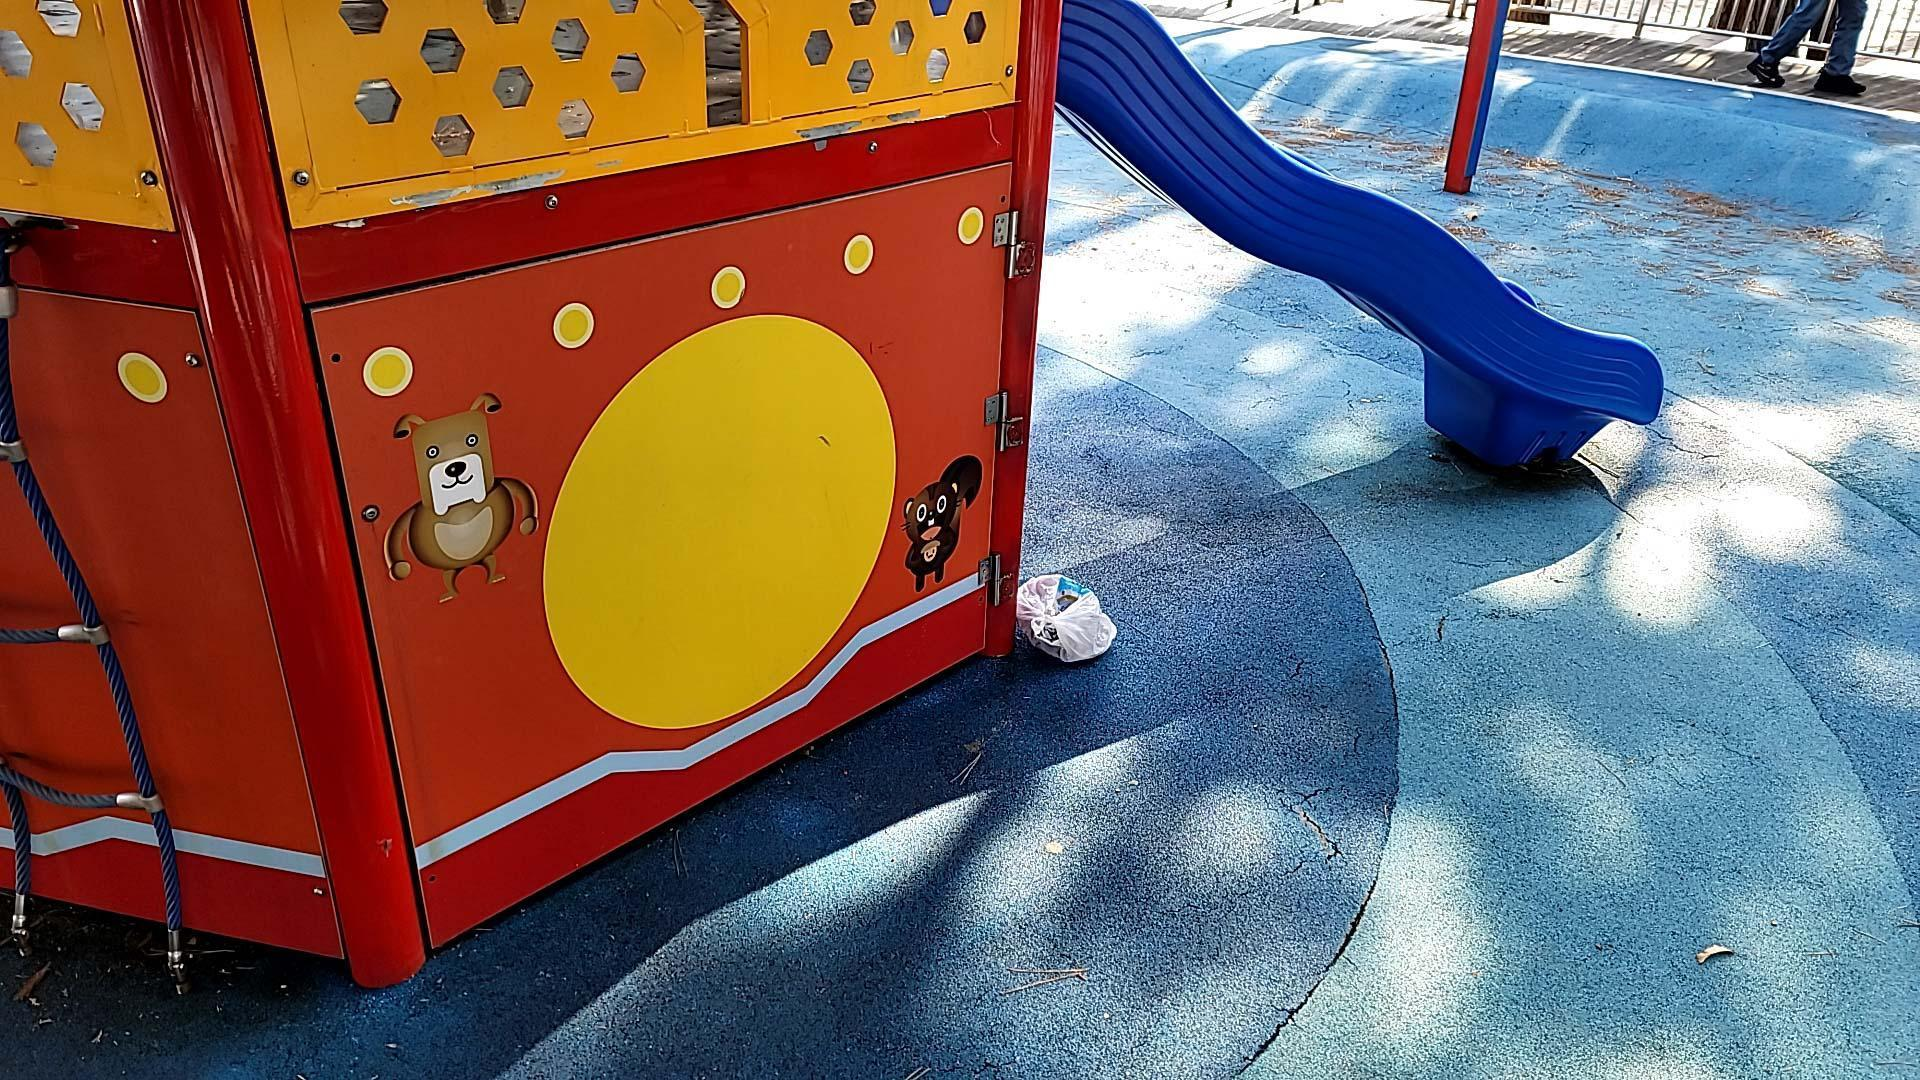white_bag: (1001, 565, 1118, 671)
